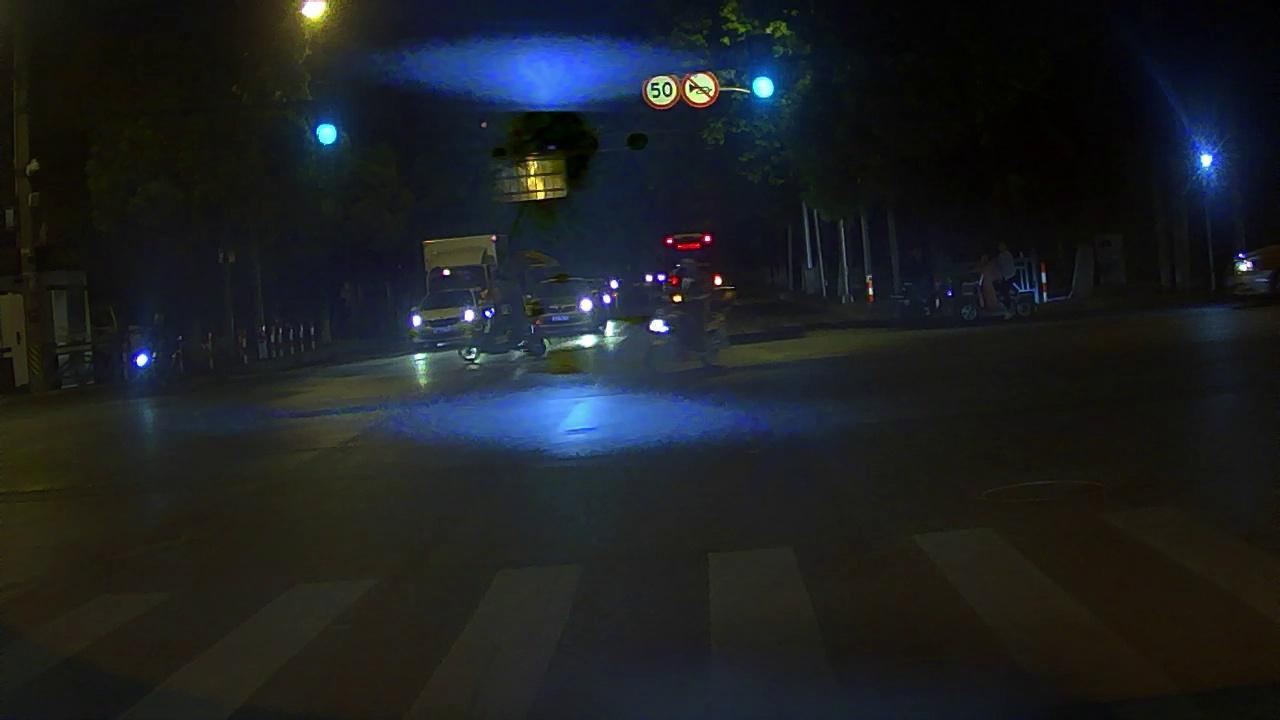traffic_light: (310, 117, 344, 154), (745, 69, 778, 103)
